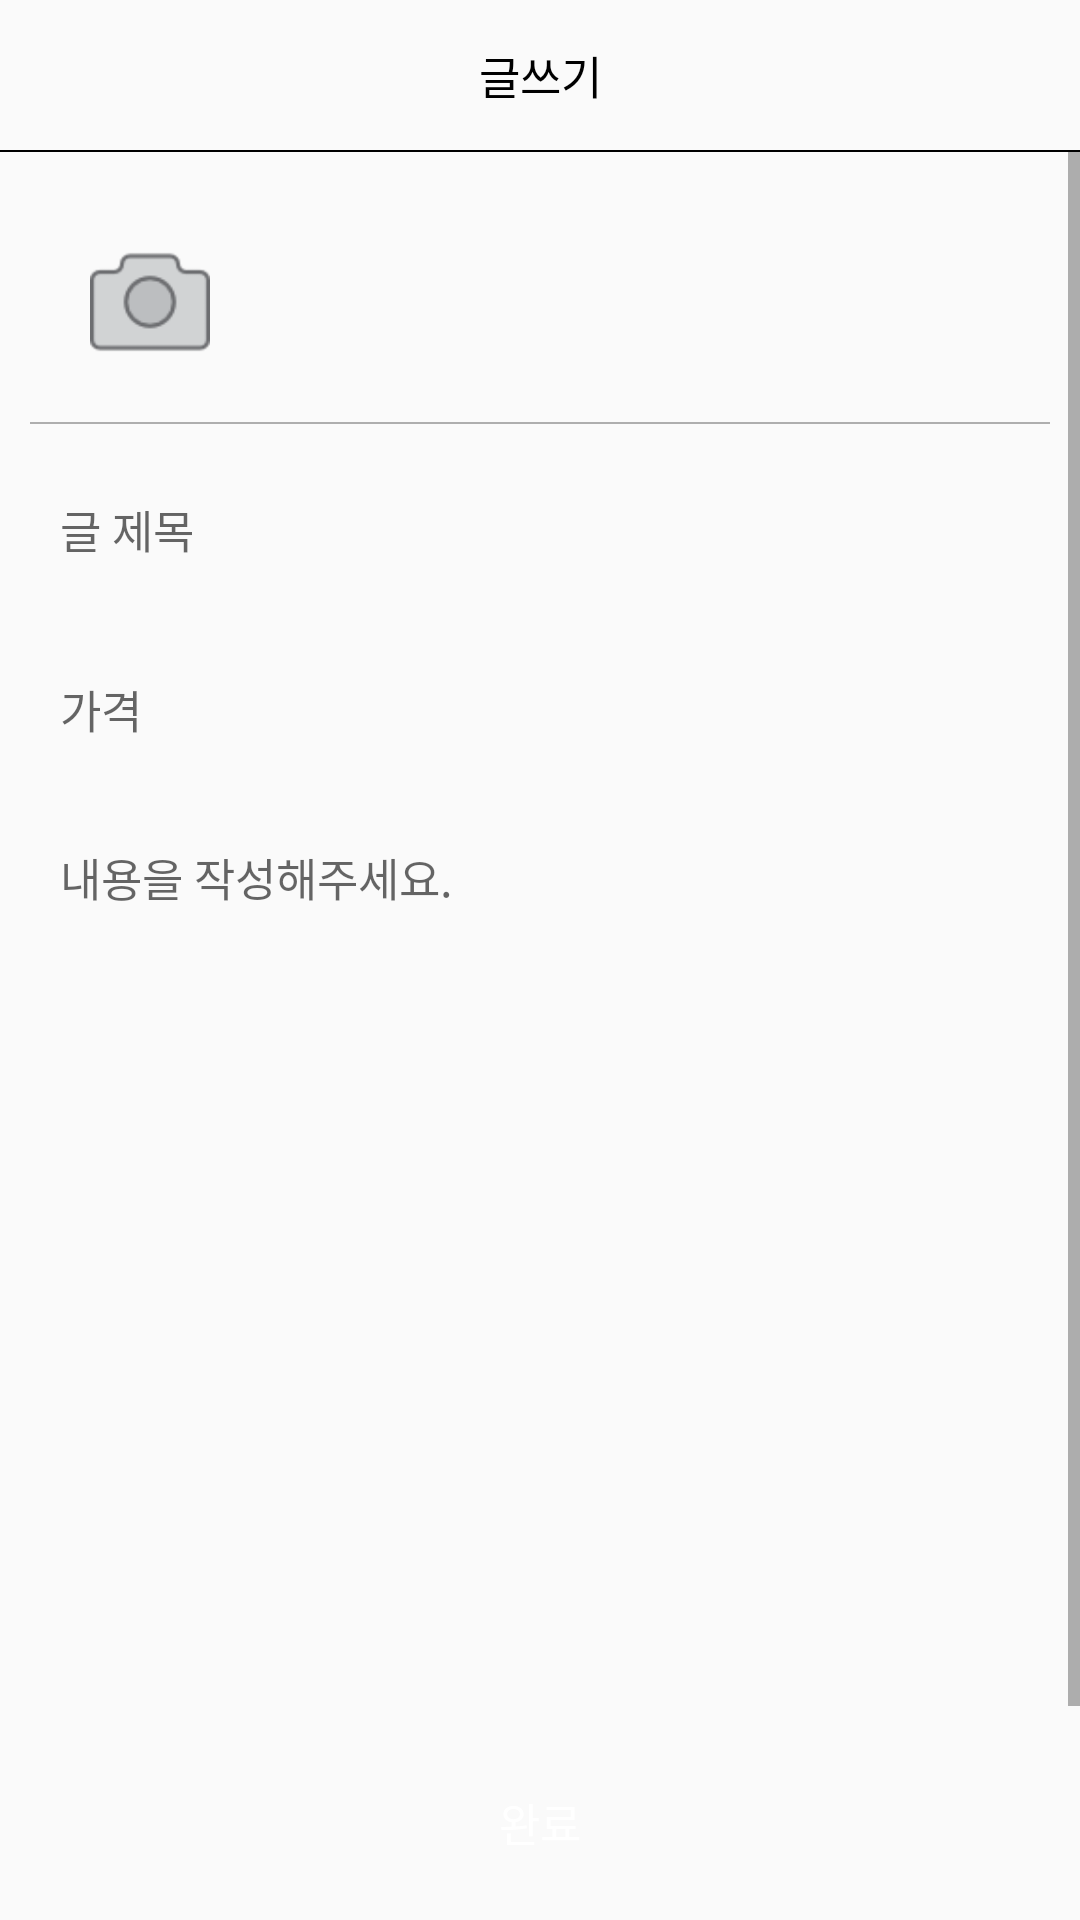

Screen size 1080px×1920px. Icon name, then its box in pixels as (x1, y1, x2, y2):
camera: (90, 253, 210, 351)
